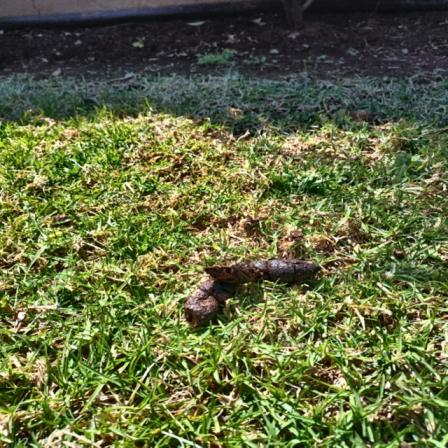dog-poop: (191, 254, 321, 314)
